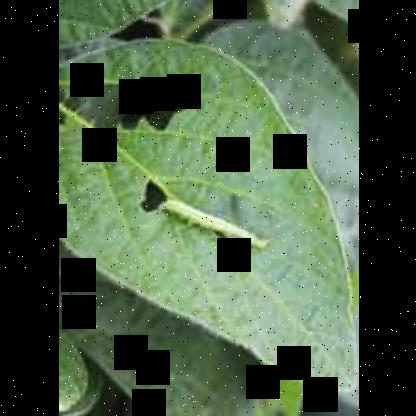agujero: (61, 80, 190, 134), (132, 180, 166, 214), (204, 229, 240, 254)
oruga: (158, 193, 268, 256)
